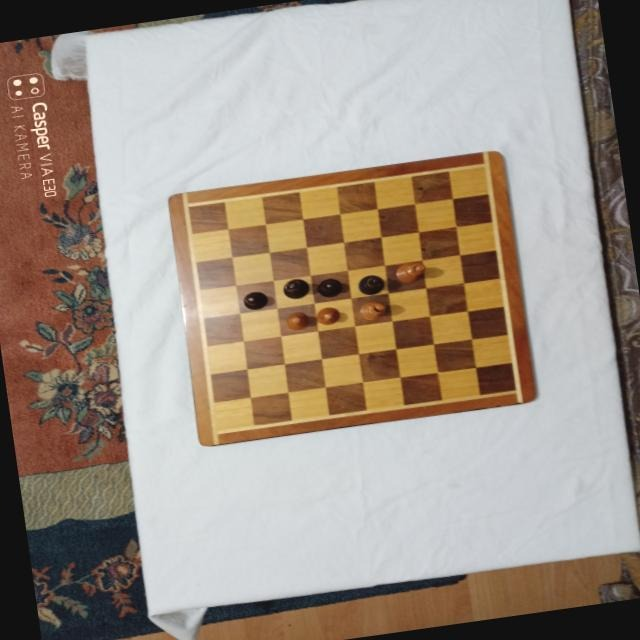black-bishop: (281, 276, 311, 300), (356, 272, 386, 296)
black-pawn: (316, 277, 344, 299), (242, 289, 270, 310)
white-bishop: (393, 259, 427, 284), (356, 298, 387, 322)
white-pawn: (284, 309, 311, 331), (315, 305, 341, 326)
